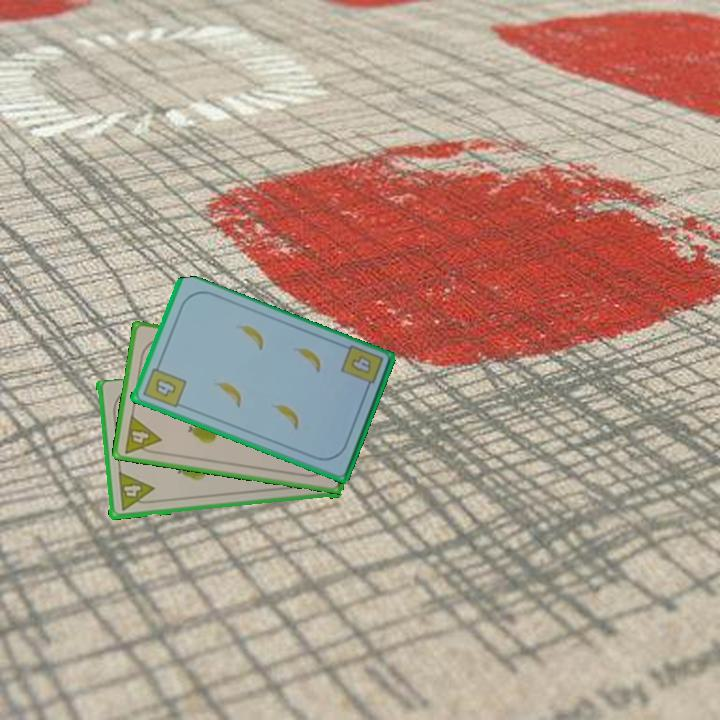4b: (337, 342, 386, 395), (139, 359, 188, 411)
4p: (120, 412, 164, 457), (114, 469, 157, 514)
